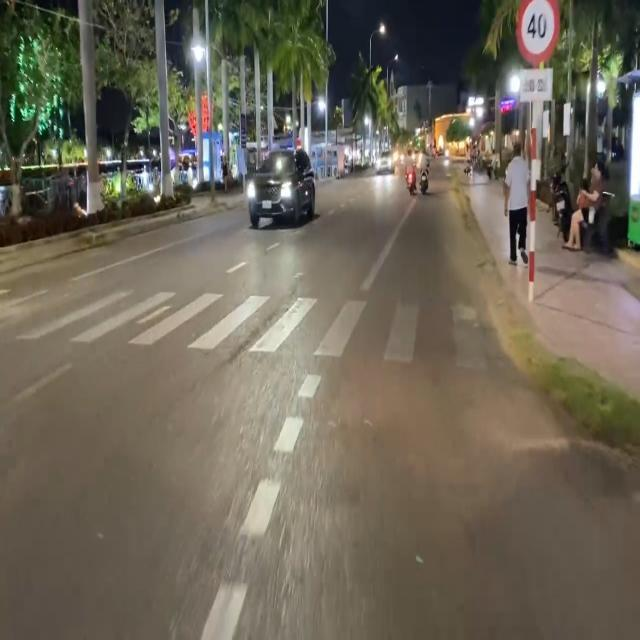walk-crossing: (1, 286, 492, 372)
